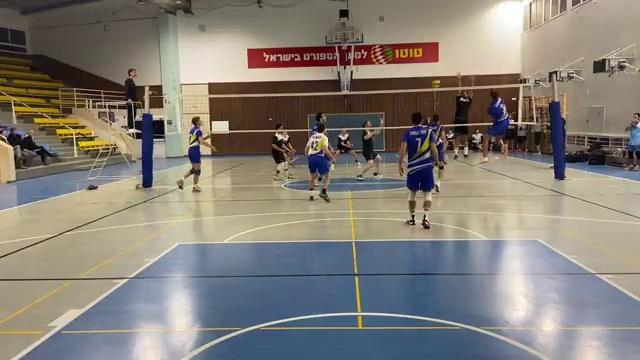ball: (429, 78, 446, 89)
